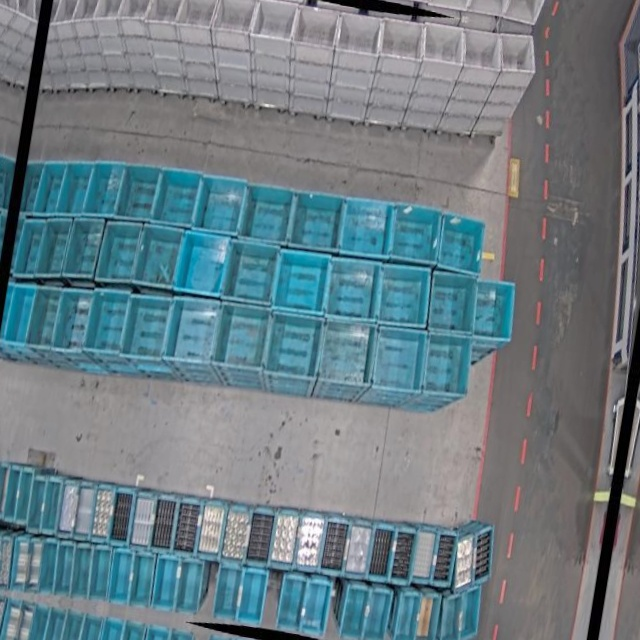Box: (260, 308, 325, 385), (366, 324, 430, 401), (372, 260, 437, 334), (322, 254, 387, 328), (270, 246, 334, 319), (315, 319, 379, 392), (382, 198, 446, 270), (284, 186, 348, 257), (420, 328, 479, 404), (222, 236, 283, 309), (164, 295, 224, 369), (210, 301, 270, 374), (336, 192, 397, 262), (237, 179, 298, 249), (172, 228, 231, 299), (421, 268, 480, 339), (433, 208, 491, 279), (193, 171, 251, 240), (468, 276, 524, 347), (121, 292, 174, 365), (81, 286, 133, 359), (152, 164, 205, 231), (94, 218, 145, 287), (135, 223, 185, 291), (50, 285, 95, 355), (115, 161, 162, 224), (62, 216, 106, 281), (375, 13, 429, 64), (81, 157, 124, 220), (333, 8, 386, 59), (290, 1, 343, 52), (457, 26, 507, 77), (417, 20, 469, 69), (492, 30, 541, 82), (25, 285, 62, 351), (56, 157, 96, 217), (36, 216, 73, 279), (3, 283, 39, 347), (467, 522, 499, 591), (249, 0, 299, 44), (267, 506, 301, 570), (14, 217, 49, 278), (33, 157, 69, 216), (222, 503, 255, 566), (243, 505, 276, 568), (195, 498, 228, 561), (449, 530, 480, 597), (294, 512, 327, 574), (171, 496, 204, 558), (341, 518, 374, 579), (298, 579, 332, 638), (366, 520, 398, 582), (128, 488, 159, 550), (318, 515, 350, 575), (276, 575, 309, 633), (387, 527, 418, 588), (106, 485, 136, 547), (338, 583, 370, 640), (410, 526, 440, 586), (455, 582, 486, 640), (211, 0, 259, 37), (85, 544, 115, 603), (153, 495, 182, 556), (235, 572, 266, 629), (215, 564, 246, 621), (151, 556, 182, 612), (89, 482, 117, 544), (34, 539, 63, 598), (362, 587, 394, 640), (71, 480, 99, 540), (127, 553, 157, 609), (108, 550, 137, 606), (178, 560, 207, 616), (175, 0, 221, 35), (436, 590, 468, 640), (393, 590, 424, 640), (19, 159, 45, 218), (59, 478, 85, 537), (67, 544, 94, 600), (38, 474, 63, 534), (432, 531, 458, 588), (9, 536, 35, 593), (51, 541, 77, 598), (21, 537, 46, 596), (0, 462, 24, 523), (26, 472, 50, 533), (412, 590, 441, 640), (12, 465, 36, 525), (144, 0, 186, 34), (119, 0, 157, 35), (48, 476, 69, 535), (0, 534, 17, 591), (53, 0, 85, 27), (93, 0, 130, 23), (72, 0, 106, 25), (0, 461, 14, 521), (0, 532, 5, 590), (0, 461, 0, 522)
